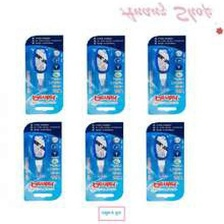book: (21, 120, 65, 203), (22, 32, 65, 116), (144, 33, 187, 116), (84, 33, 127, 116), (83, 119, 125, 203), (144, 120, 185, 203)
correction_fluid: (149, 131, 170, 181), (152, 45, 172, 94), (91, 45, 111, 94), (89, 133, 109, 178), (28, 132, 47, 178), (31, 46, 49, 93)
